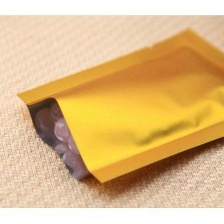snack: (10, 21, 224, 193)
